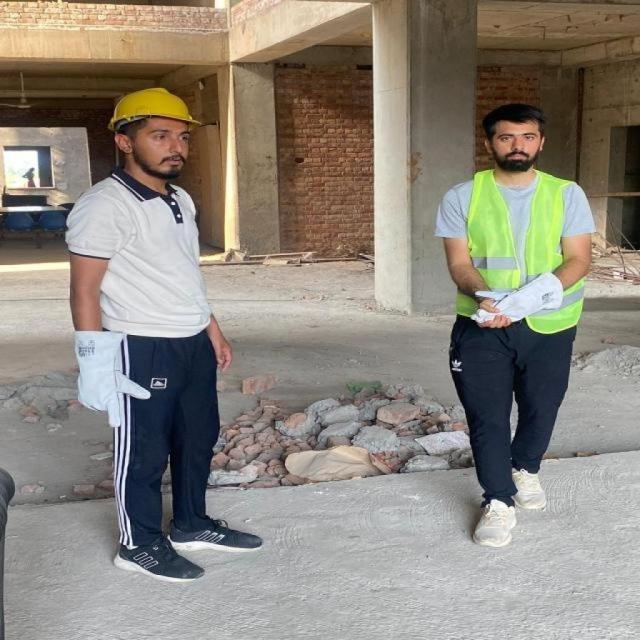Gloves-Detection: (70, 320, 148, 421), (479, 274, 556, 334)
